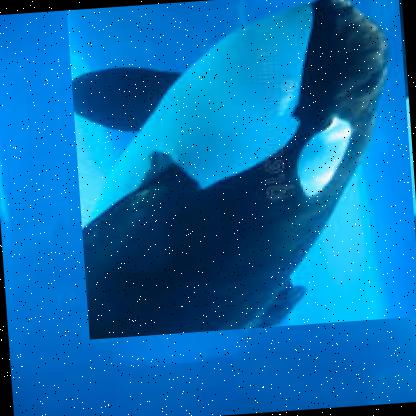killer_whale: (67, 0, 415, 340)
